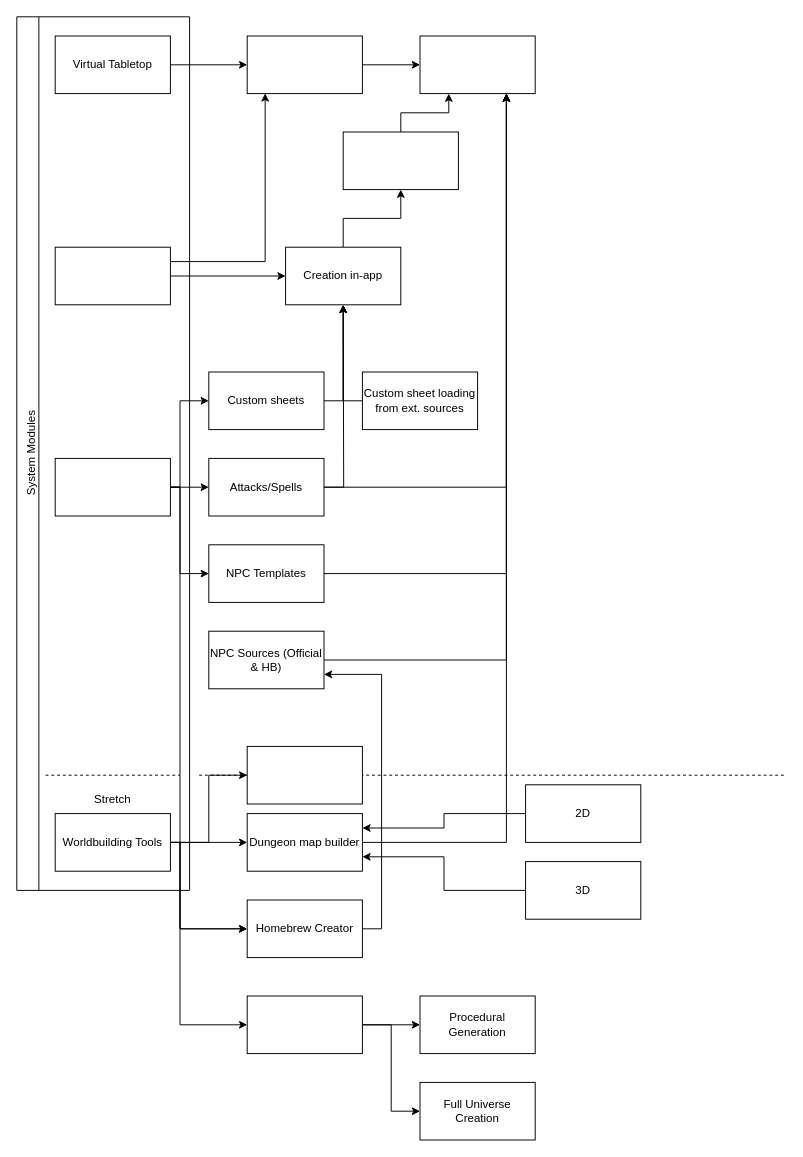
The diagram is 803 pixels wide and 1157 high, and some of its shapes have lost their labels. Here are the shapes that lost their labels. From the top down, the centre of each, then its label:
[304,64]: Multiple games/user
[477,64]: Map view/gameplay interface
[400,160]: PC Icons & Interaction
[112,275]: Character Sheets
[112,486]: System Customization
[304,774]: Custom Documents/World Lore Notes
[304,1024]: World Map Builder
